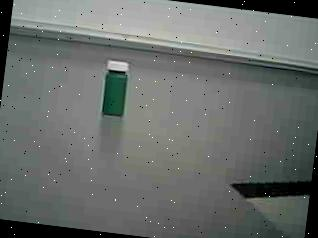Bottle C: (93, 55, 137, 121)
